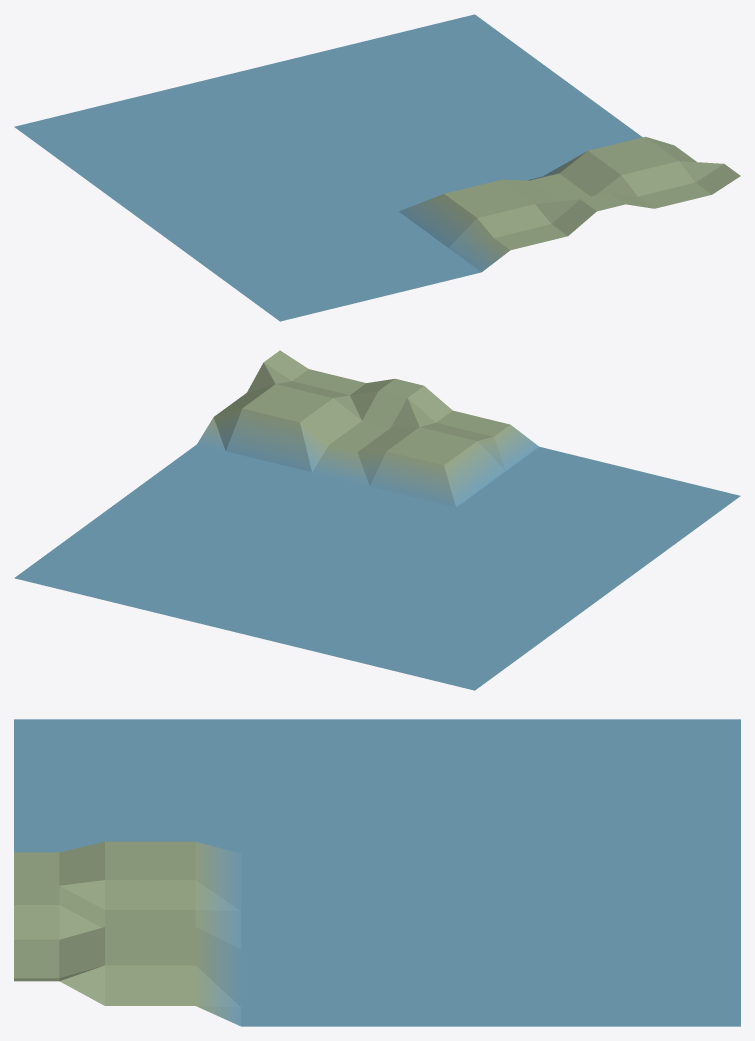
The picture shows the model from 3 angles, top to bottom: view 1: azimuth 30°, elevation 25°; view 2: azimuth 150°, elevation 25°; view 3: azimuth 270°, elevation 25°; orthographic projection. The views are drawn at different scales.
Bounding box in the file's own units: 32 × 2.2 × 32.
